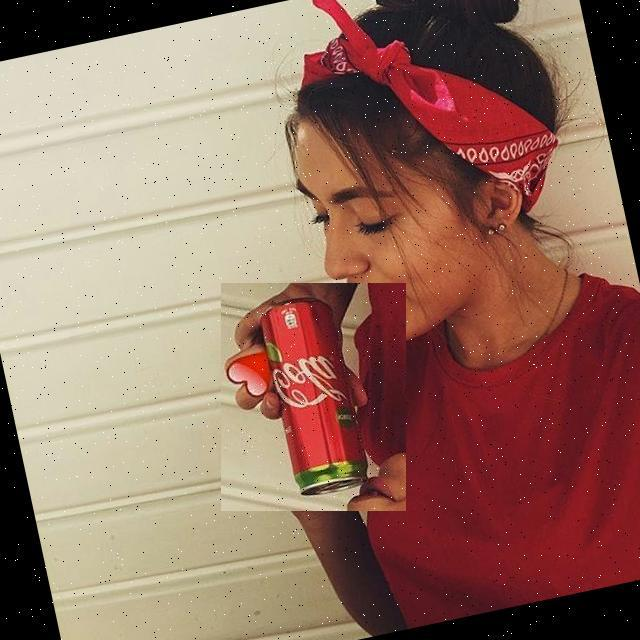coca-cola: (221, 283, 406, 511)
